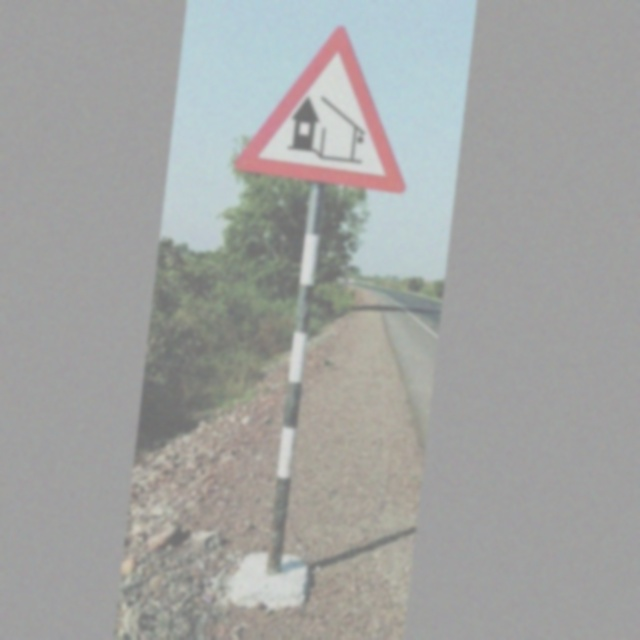Barrier_Ahead: (238, 20, 421, 190)
